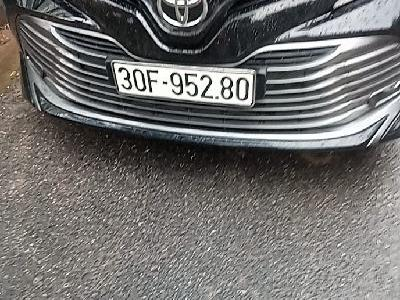lisence: (110, 59, 257, 108)
